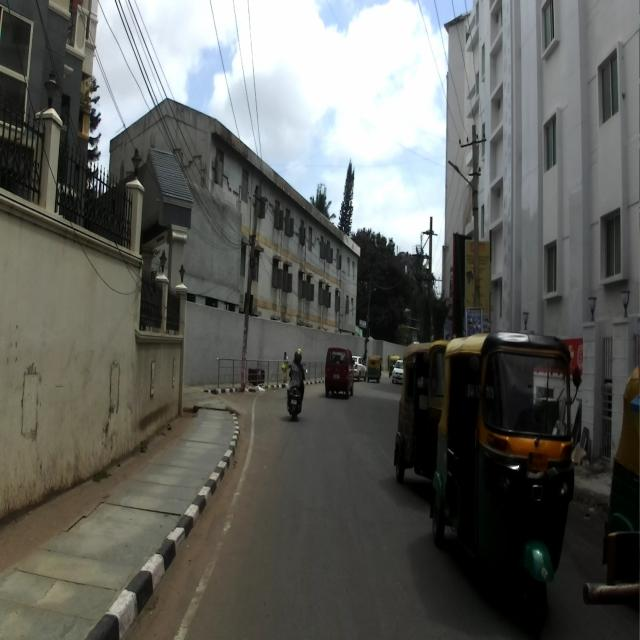autorickshaw: (429, 326, 580, 623), (393, 342, 454, 486)
